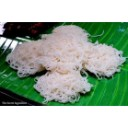idiyappam: (42, 35, 89, 72), (41, 71, 91, 101), (85, 41, 123, 79), (8, 42, 45, 75)
